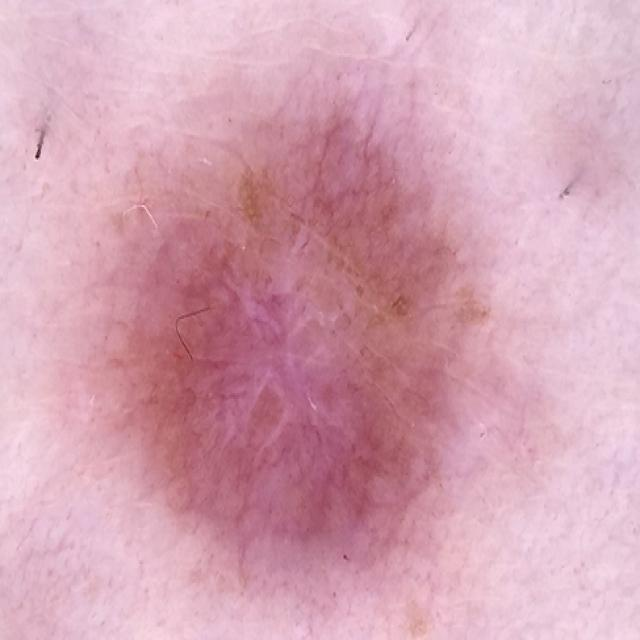Dermatofibroma: (92, 103, 499, 569)
